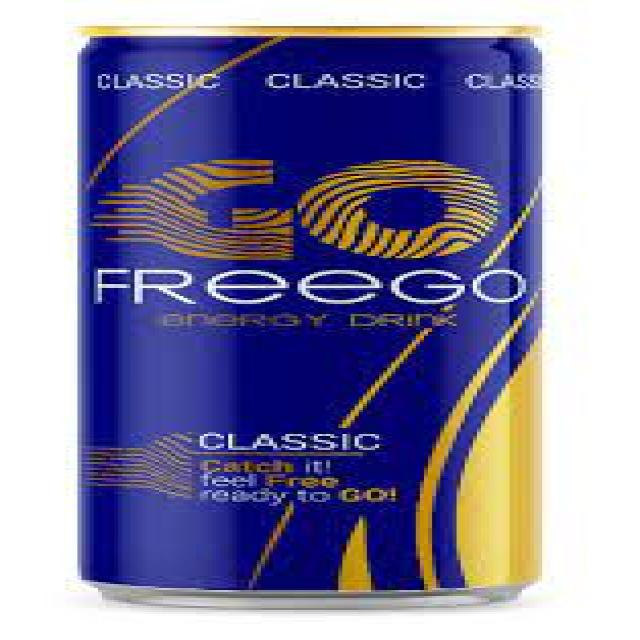Cans: (45, 10, 562, 614)
